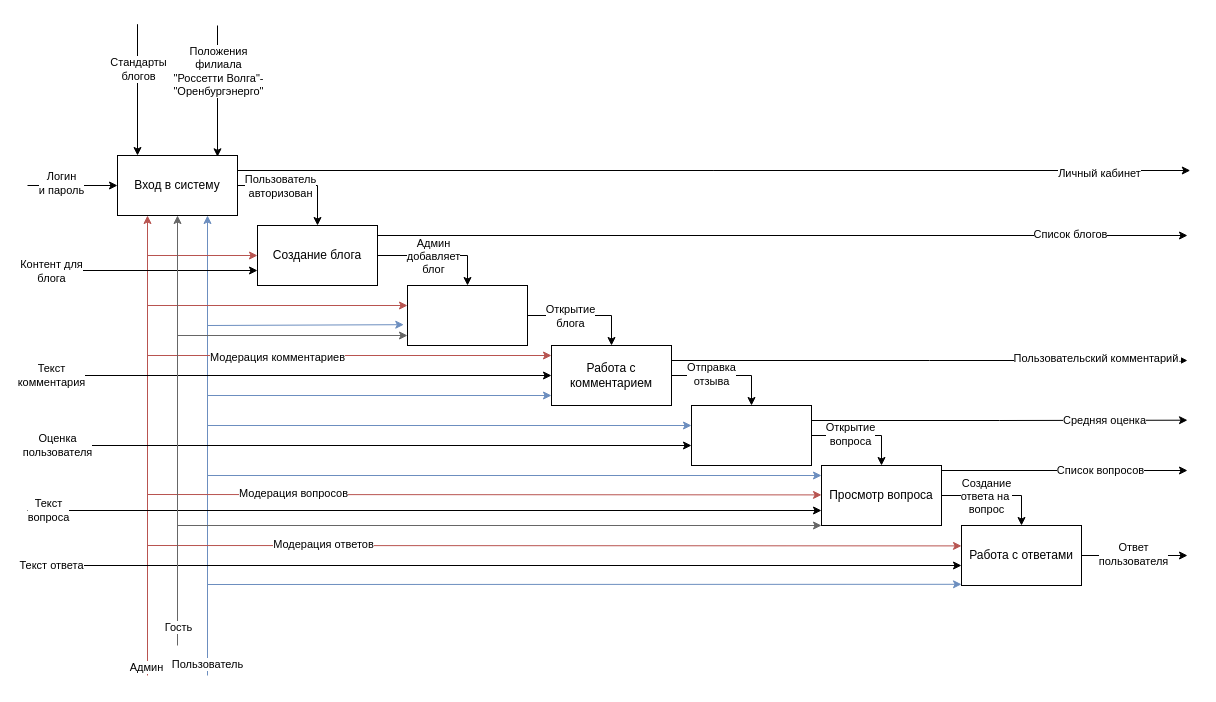
Some shapes in this 1216 by 702 pixel diagram are drawn without their labels. The shapes that lost their labels are listed below. From the top down, each one's centre as x and y in pixels, then its label:
At point (467, 315): "Просмотр блога".
At point (751, 435): "Работа с оценкой".
